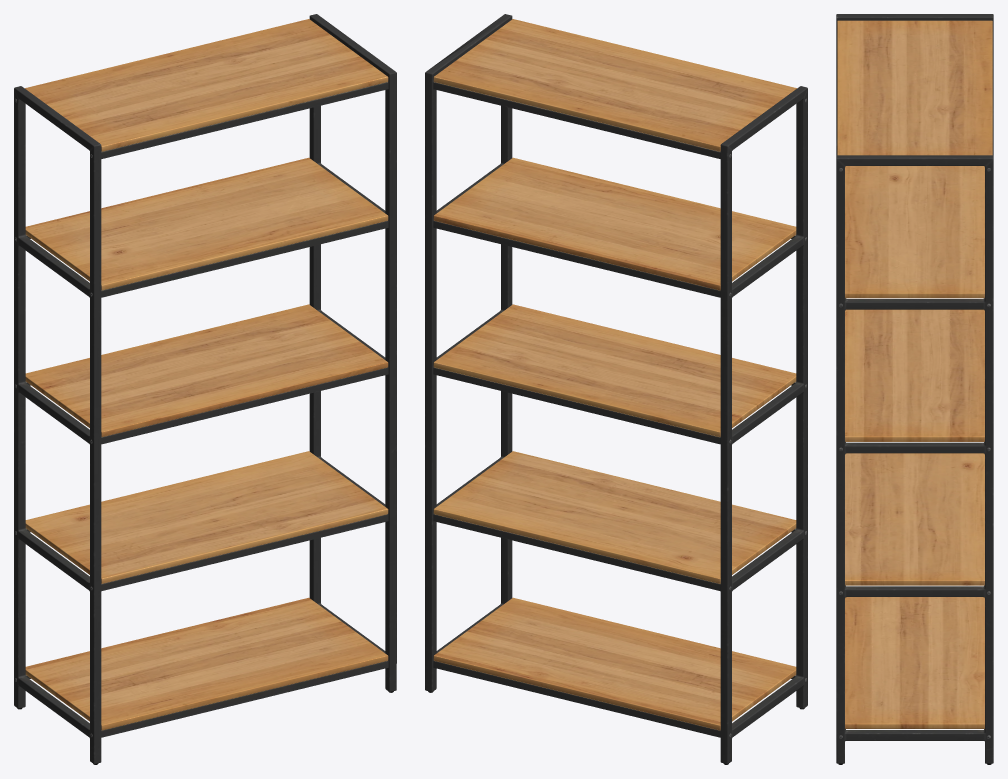
Rendered from steel-frame-shelving.glb.
3 views of the same model, side by side, from view 1: azimuth 30°, elevation 25°; view 2: azimuth 150°, elevation 25°; view 3: azimuth 270°, elevation 25° (orthographic). The views are drawn at different scales.
Visible parts, largest first — view 1: steel_frame_shelves_01; view 2: steel_frame_shelves_01; view 3: steel_frame_shelves_01.
Part boxes in pixels (box(x1,y1,x2,y2)): steel_frame_shelves_01: box(14, 14, 396, 764); steel_frame_shelves_01: box(425, 14, 807, 764); steel_frame_shelves_01: box(836, 14, 993, 764).
Size of the model in its own units: 10.97 by 21.41 by 5.02.
1 material, 1 textured.
